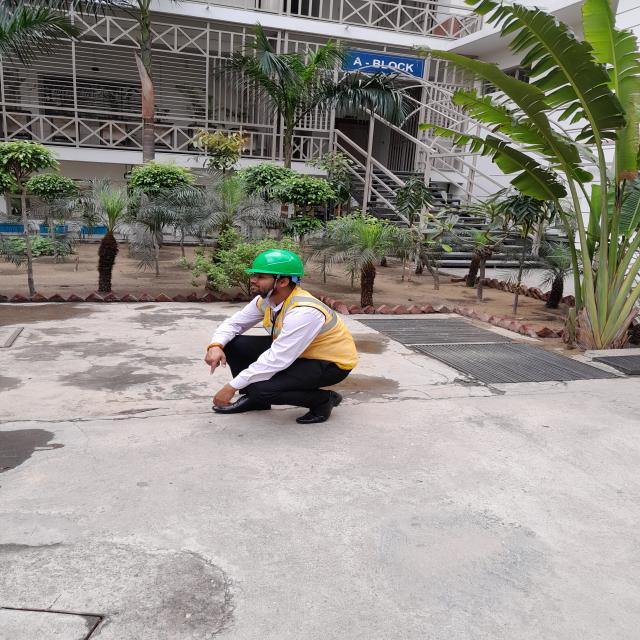safe: (205, 249, 358, 423)
